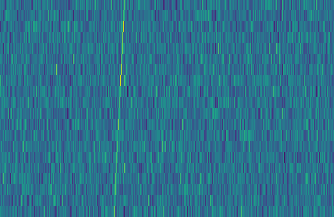signal: (108, 0, 128, 217)
